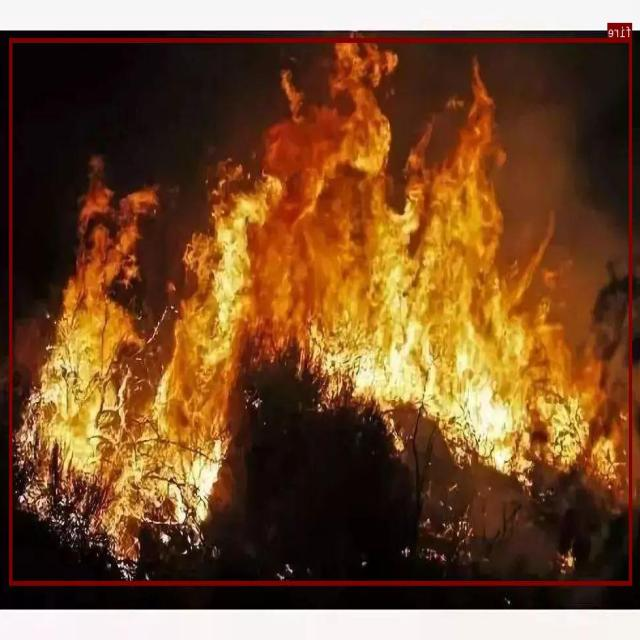fire: (10, 38, 632, 584)
